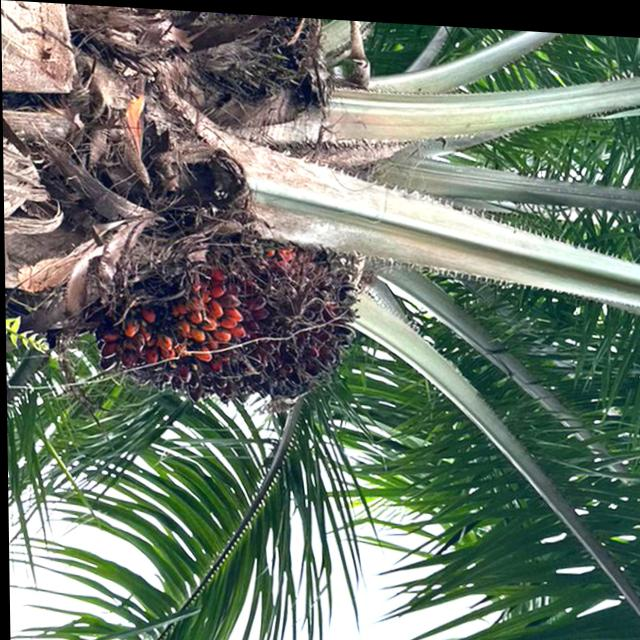ripe: (120, 208, 382, 384)
